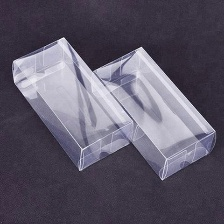plastic_box: (84, 40, 221, 185), (7, 32, 138, 175)
